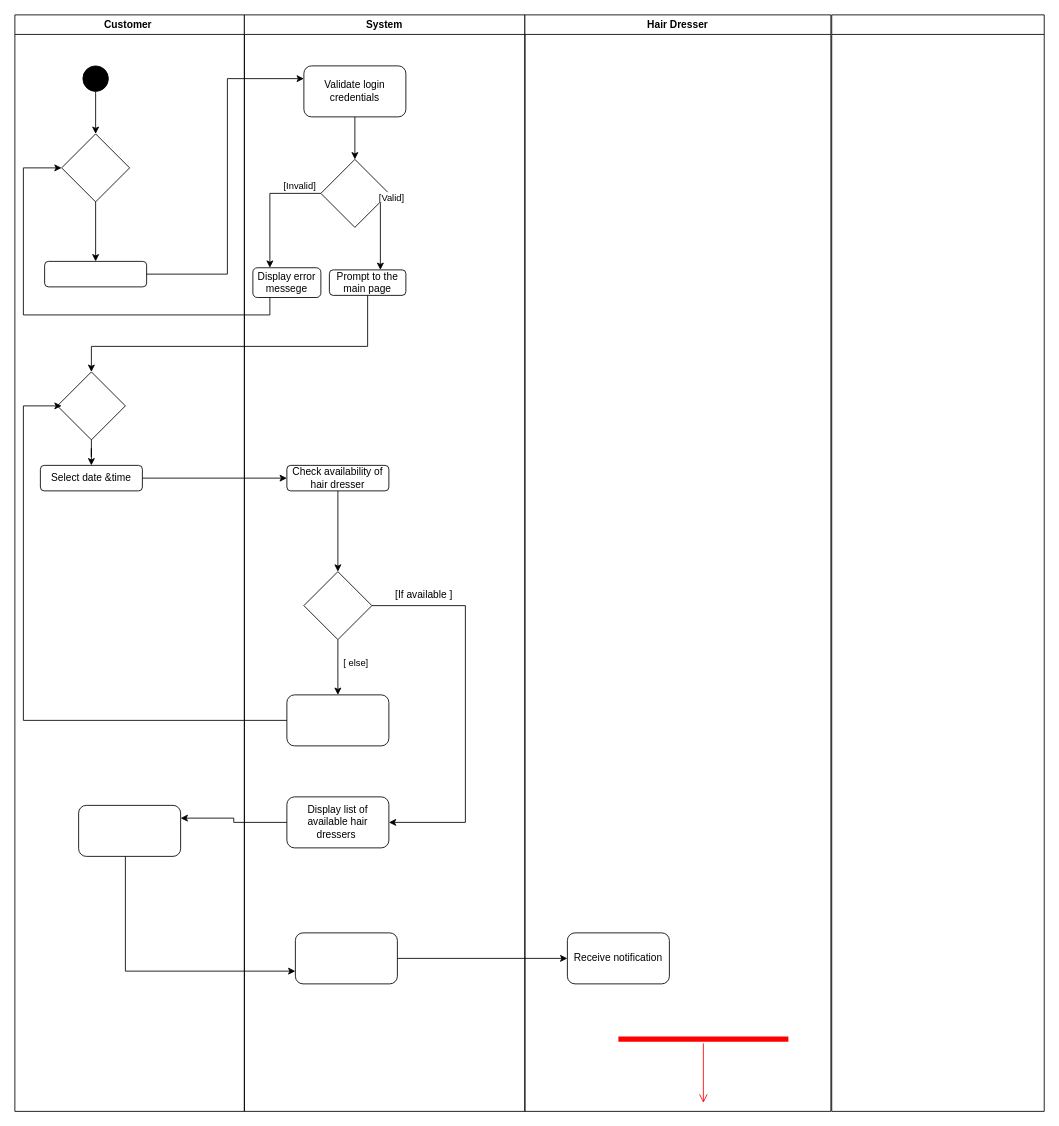
Image size: 1059x1126. Some labels were removed from this diagram. Here are the shapes that lost their labels. From the top down, the centre of each, then its label:
At (95,274): "Login".
At (937,562): "Payment Counter".
At (337,720): "Ask for choose different date and time".
At (129,830): "Select the hair dressers".
At (346,958): "Send details to hair dresser& to the payment counter".
